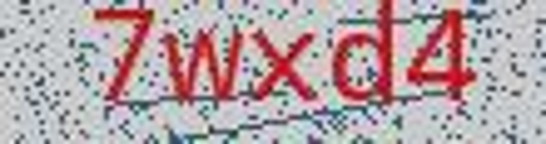4: (405, 3, 488, 111)
7: (80, 6, 157, 113)
d: (323, 1, 399, 114)
w: (159, 15, 243, 109)
x: (247, 20, 318, 112)
